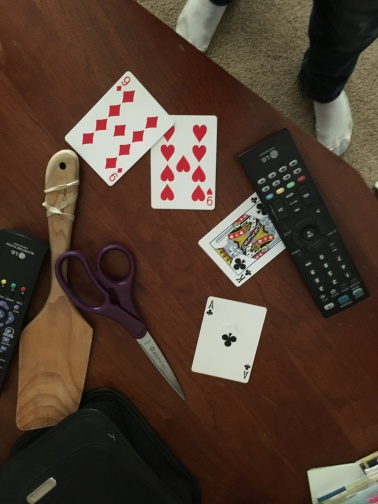ace: (189, 294, 268, 383)
king: (198, 210, 293, 287)
nine: (65, 69, 174, 188), (150, 115, 218, 212)
